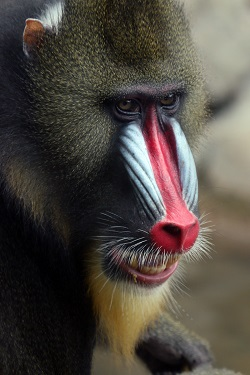Mandrill: (3, 6, 205, 335)
